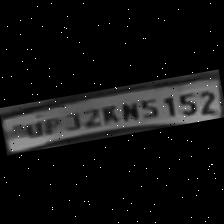1: (156, 92, 177, 117)
2: (194, 85, 219, 116)
5: (172, 89, 198, 117), (136, 94, 160, 119)
J: (60, 108, 83, 130)
K: (96, 102, 118, 124)
N: (116, 98, 140, 120)
P: (38, 114, 61, 136)
U: (16, 117, 44, 140)
Z: (77, 105, 100, 129)
